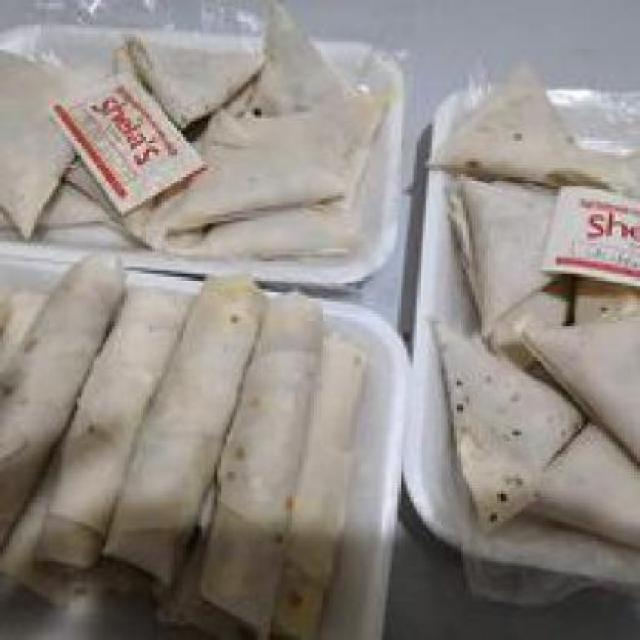samosa: (432, 59, 638, 553)
